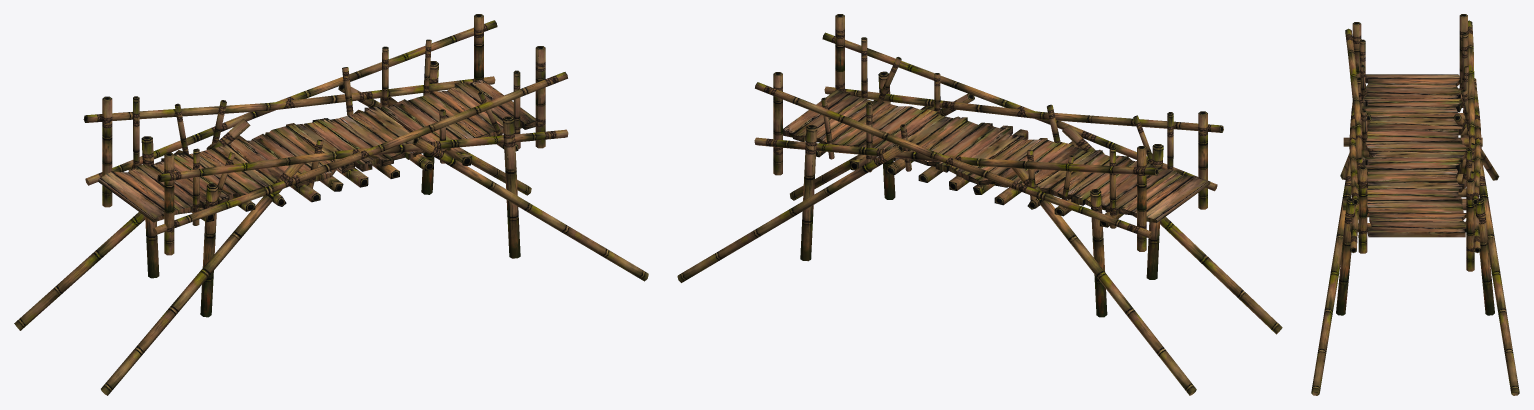
File: STR_BridgewoodA.FBX
3 renders of one model, left to right at view 1: azimuth 30°, elevation 25°; view 2: azimuth 150°, elevation 25°; view 3: azimuth 270°, elevation 25°, orthographic. The views are drawn at different scales.
Parts seen in each view (by area): view 1: STR_BridgewoodA; view 2: STR_BridgewoodA; view 3: STR_BridgewoodA.
Part boxes in pixels (<box>): STR_BridgewoodA: <box>14,14,648,395</box>; STR_BridgewoodA: <box>677,14,1282,395</box>; STR_BridgewoodA: <box>1311,14,1519,395</box>.
Bounding box in the file's own units: 3747 × 1564 × 1505.
